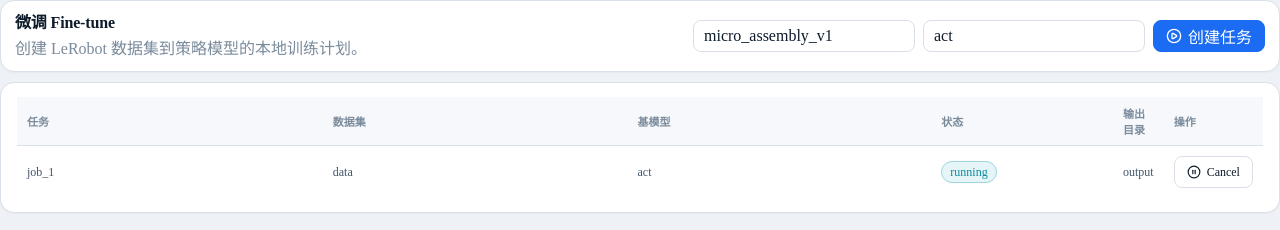
Scenario: fineTune 请求生命周期 › 创建后等列表刷新结束才解除 loading，期间不重复创建
This screenshot has width=1280, height=230.
Expected: the text "job_1" is shown, [17,146,323,198]
Click the button "创建任务": (1209, 36) [1153,20,1265,52]
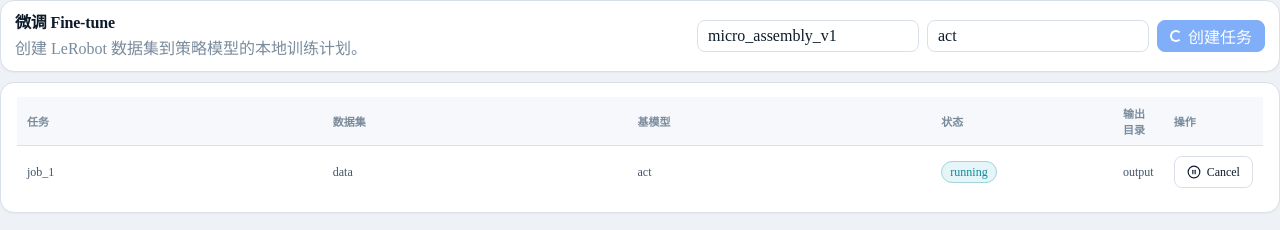
Result: the button "创建任务" is disabled
Click the button "创建任务": (1211, 36) [1157,20,1265,52]
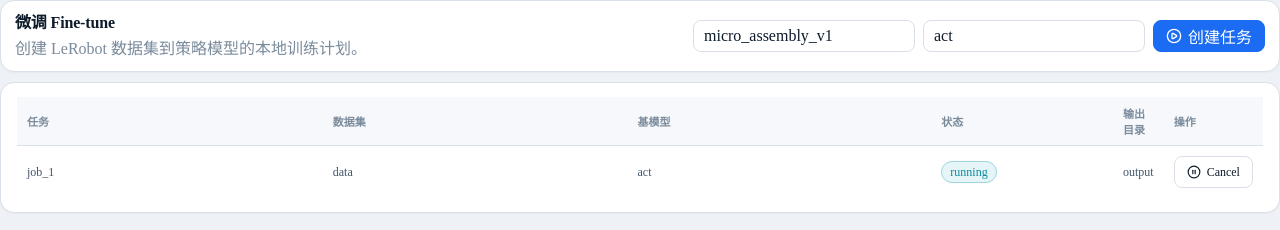
Result: the button "创建任务" is enabled at [1153,20,1265,52]
